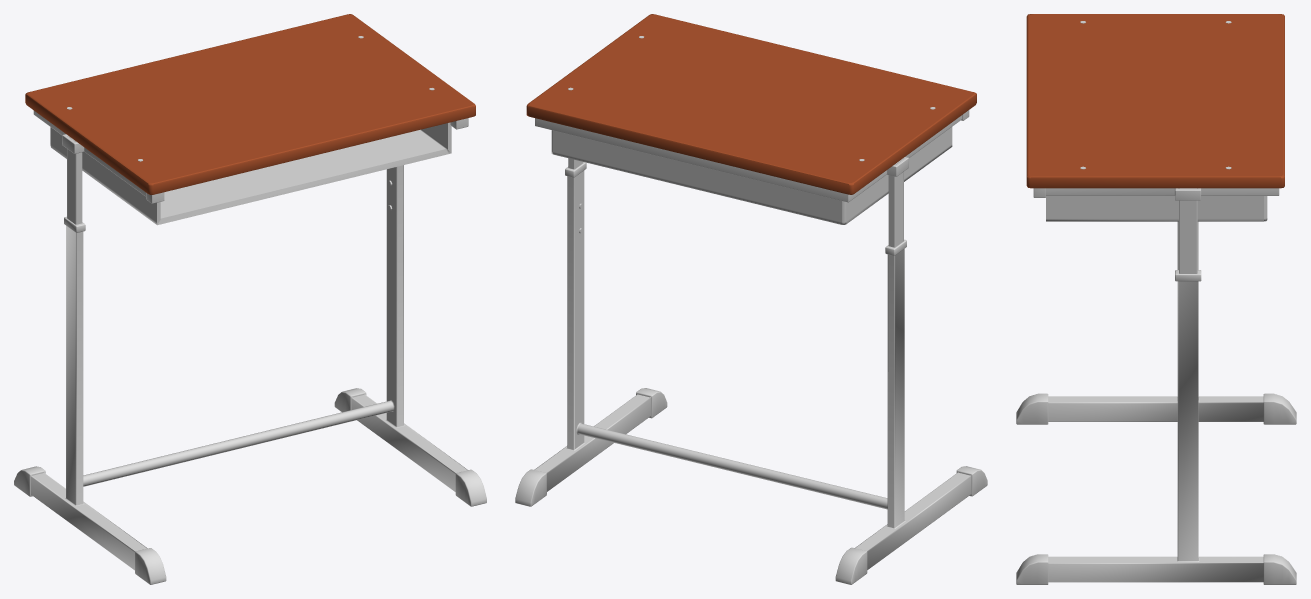
Rendered from Mdesk.fbx.
3 renders of one model, left to right at view 1: azimuth 30°, elevation 25°; view 2: azimuth 150°, elevation 25°; view 3: azimuth 270°, elevation 25°, orthographic. The views are drawn at different scales.
Parts seen in each view (by area): view 1: Box019, Box027, Box022, Box023; view 2: Box019, Box027, Box022, Box023; view 3: Box019, Box027, Box022, Box023.
Boxes of the visible parts, bbox=[...] form: Box019: bbox=[25, 14, 475, 194]; Box027: bbox=[14, 135, 486, 584]; Box022: bbox=[50, 122, 451, 225]; Box023: bbox=[33, 110, 468, 203]; Box019: bbox=[526, 14, 976, 194]; Box027: bbox=[515, 158, 987, 584]; Box022: bbox=[551, 127, 952, 224]; Box023: bbox=[535, 110, 969, 202]; Box019: bbox=[1026, 14, 1284, 188]; Box027: bbox=[1016, 188, 1296, 584]; Box022: bbox=[1046, 196, 1267, 221]; Box023: bbox=[1033, 188, 1279, 200].
Bounding box in the file's own units: 62.22 × 69.9 × 43.72.
